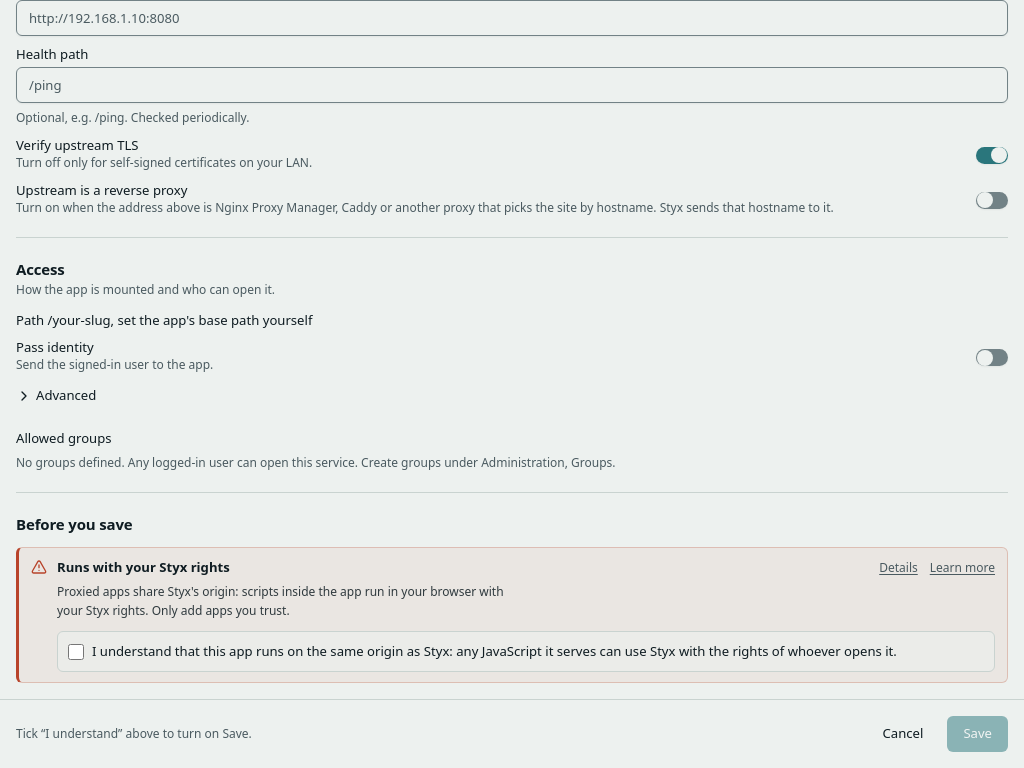
Scenario: ServiceForm upstream reverse proxy › IP literal https://10.0.0.1 blocks save when on
The image size is (1024, 768).
(page scrolled)
Step 1. Click the checkbox labelled "I understand that this app runs on the same origin as Styx" → {"x": 76, "y": 652}, box [68, 644, 84, 660]
(page scrolled)
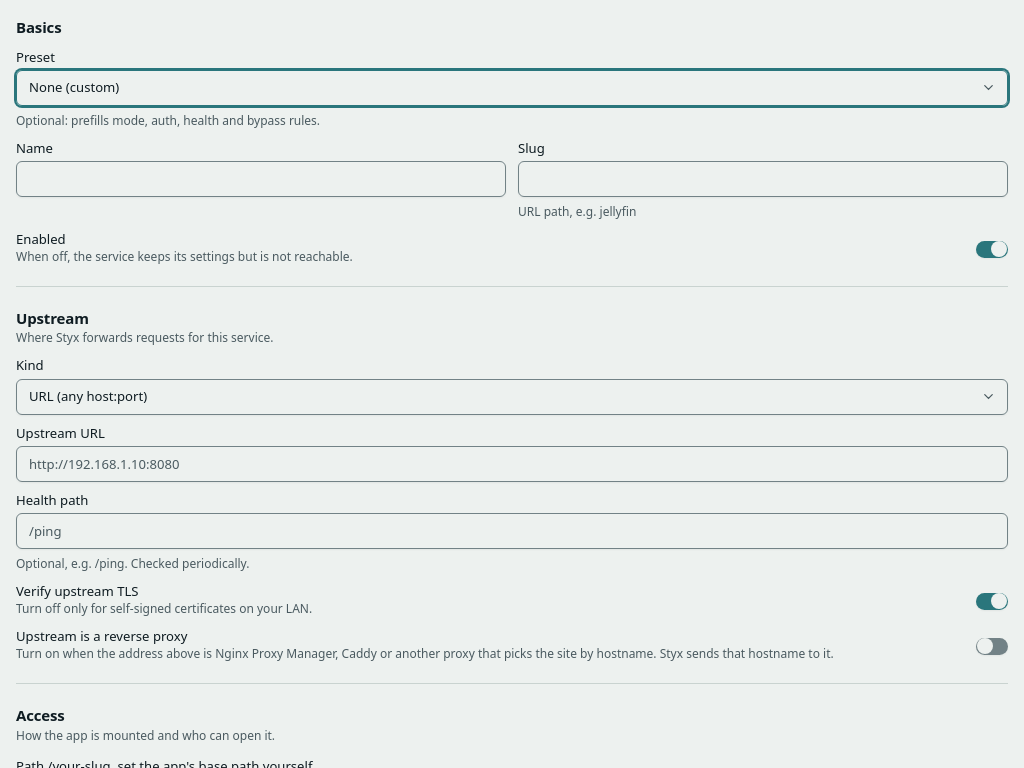
Step 2. Type "g" into the field labelled "Slug" → {"x": 763, "y": 179}, box [518, 161, 1008, 197]
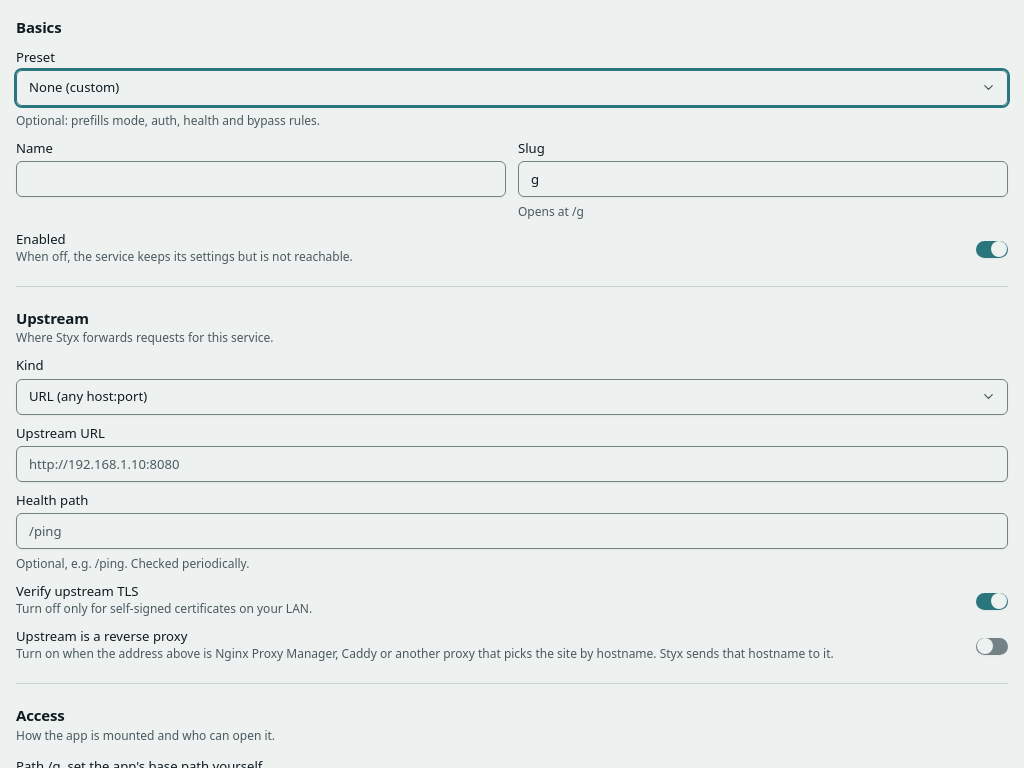
Step 3. Type "G" into the field labelled "Name" → {"x": 261, "y": 179}, box [16, 161, 506, 197]
Step 4. Type "https://unraid.home.lan" into the field labelled "Upstream URL" → {"x": 512, "y": 464}, box [16, 446, 1008, 482]
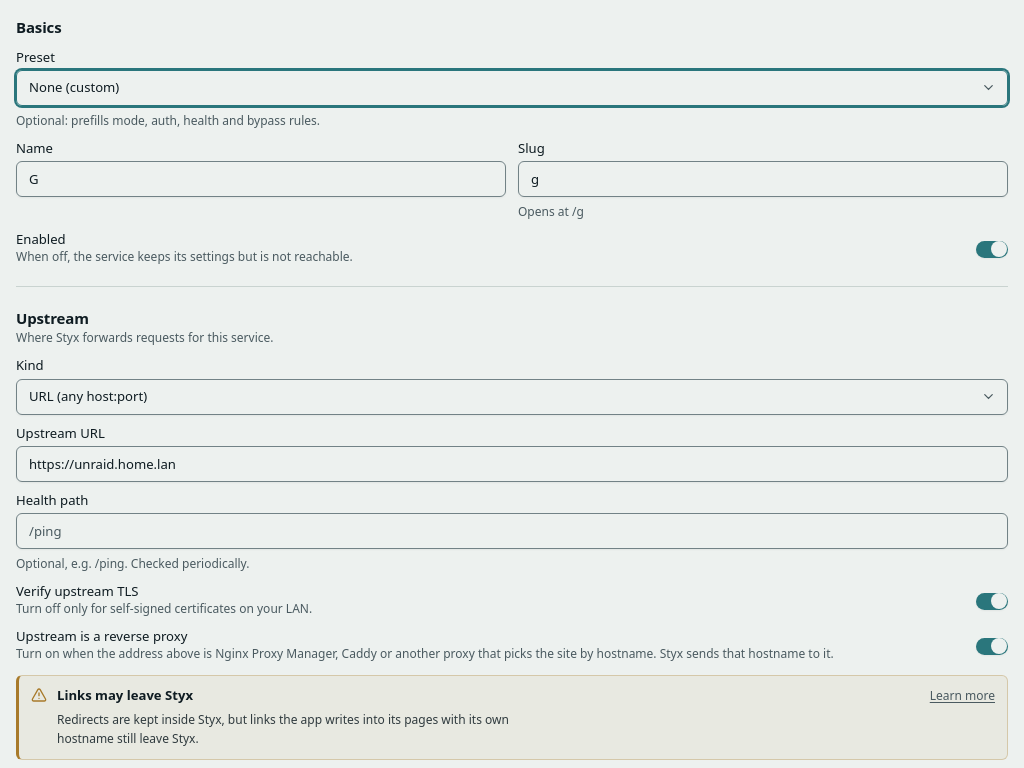
Step 5. Replace the text in the field labelled "Upstream URL" with "https://10.0.0.1" → {"x": 512, "y": 464}, box [16, 446, 1008, 482]
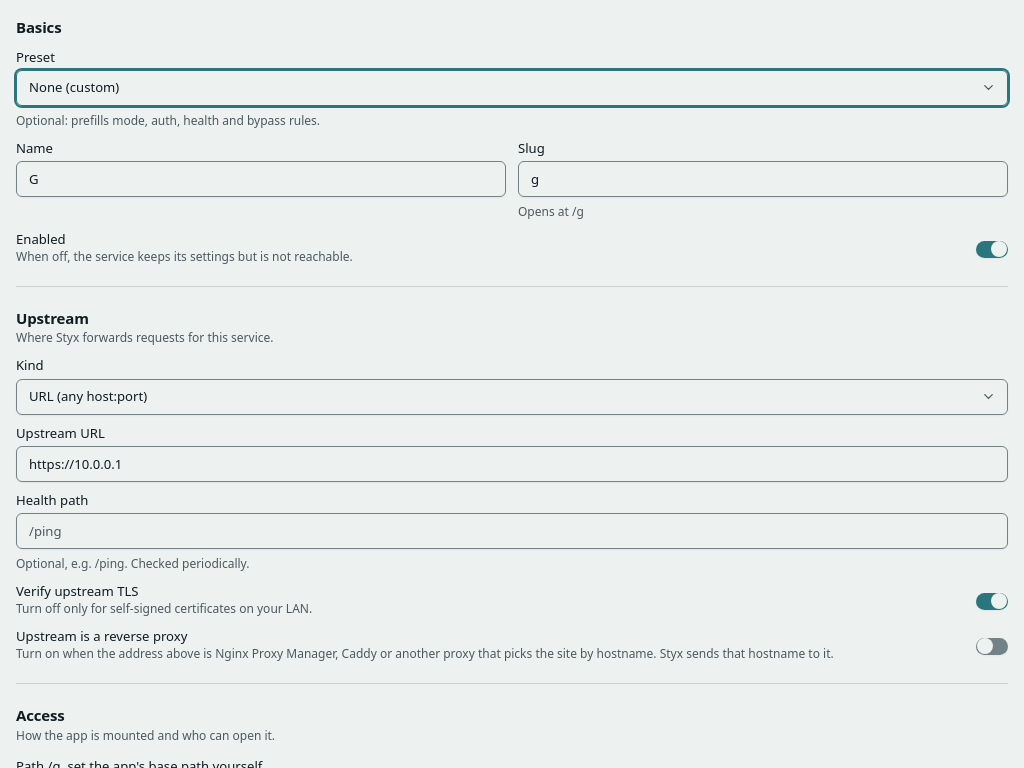
Step 6. Click the switch named "Upstream is a reverse proxy" → {"x": 992, "y": 646}, box [976, 638, 1008, 655]
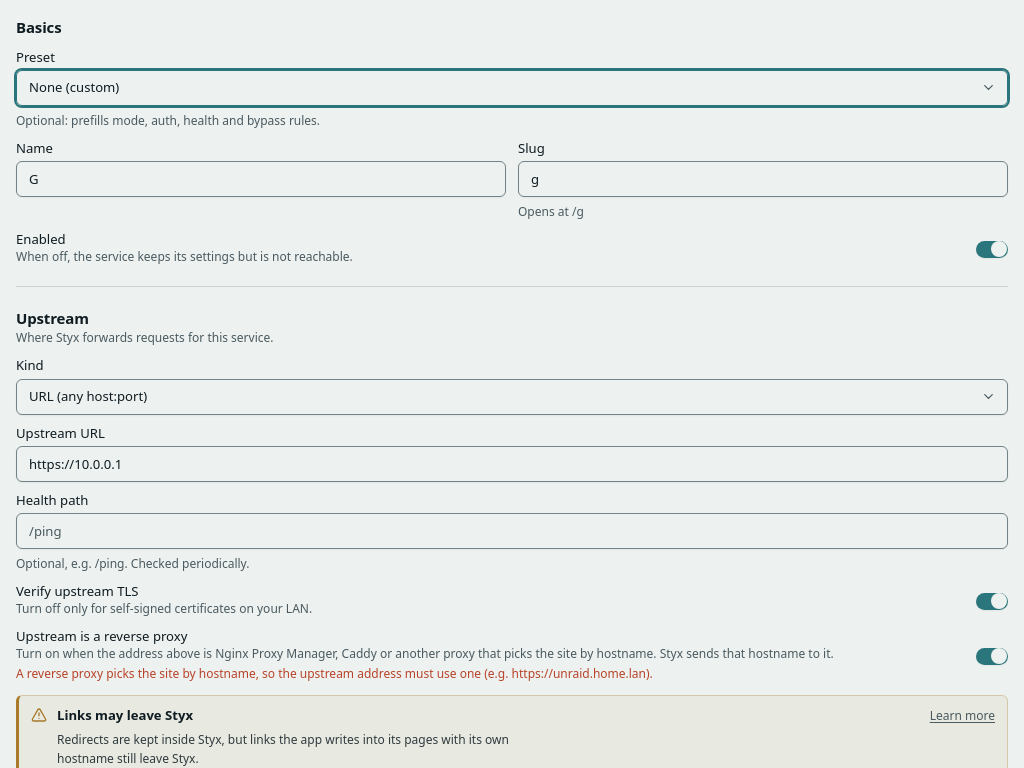
Expected: the text "A reverse proxy picks the site by hostname, so the upstream address must use one (e.g. https://unraid.home.lan)." is shown, [16, 665, 653, 682]
Step 7. Click the switch named "Upstream is a reverse proxy" → {"x": 992, "y": 656}, box [976, 648, 1008, 665]
(page scrolled)
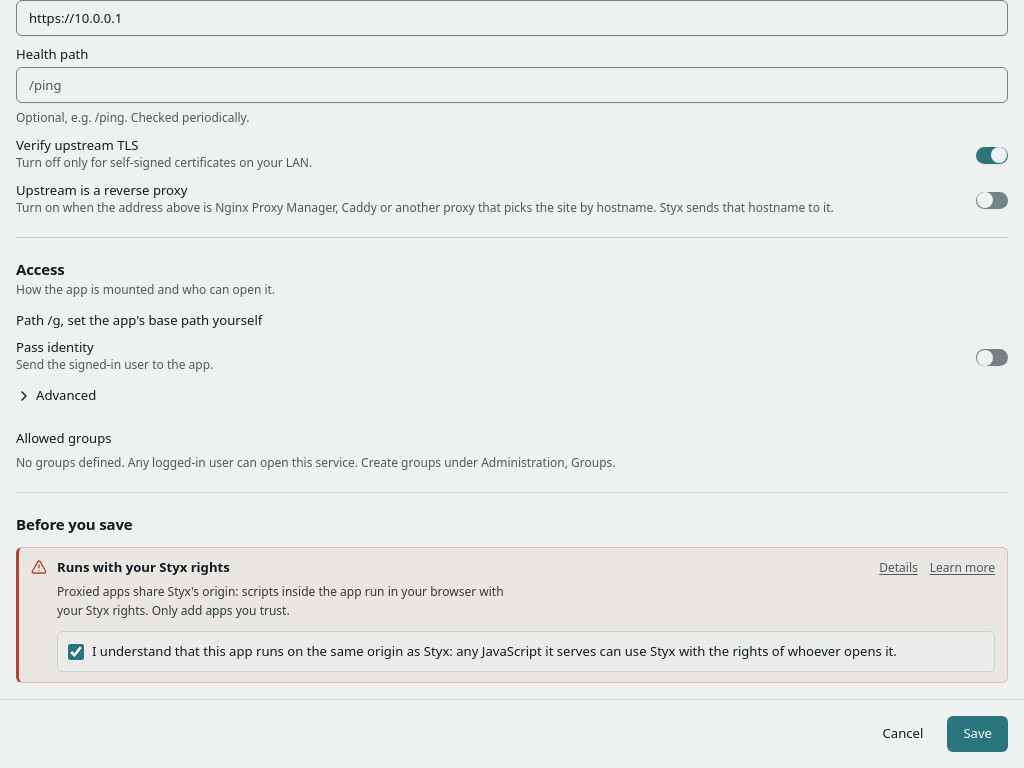
Expected: the text "A reverse proxy picks the site by hostname, so the upstream address must use one (e.g. https://unraid.home.lan)." is gone
Expected: the button "Save" is enabled, [947, 716, 1008, 752]
